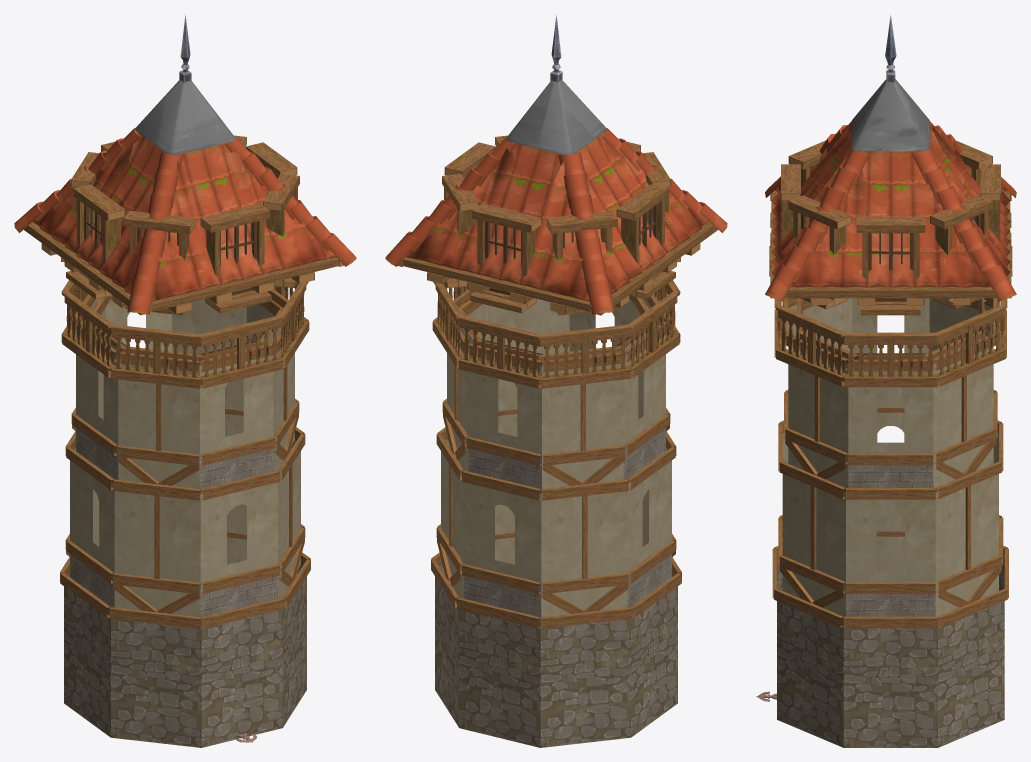
Rendered from Lighthouse.gltf.
3 views of the same model, side by side, from view 1: azimuth 30°, elevation 25°; view 2: azimuth 150°, elevation 25°; view 3: azimuth 270°, elevation 25° (orthographic).
Parts seen in each view (by area): view 1: Roof_Tower_RoundTiles, Wall_UnevenBrick_Straight (×5), Wall_Plaster_Straight (×7), Wall_Plaster_Window_Thin_Round (×6), Balcony_Simple_Straight (×4), Window_Wide_Flat1 (×6); view 2: Roof_Tower_RoundTiles, Wall_UnevenBrick_Straight (×5), Wall_Plaster_Straight (×7), Wall_Plaster_Window_Thin_Round (×6), Balcony_Simple_Straight (×4), Window_Wide_Flat1 (×6); view 3: Wall_Plaster_Straight (×6), Roof_Tower_RoundTiles, Wall_UnevenBrick_Straight (×4), Wall_Plaster_Window_Thin_Round (×4), Window_Wide_Flat1 (×7), Balcony_Simple_Straight (×3).
Boxes of the visible parts, x1,y1,x2,y2 form: Roof_Tower_RoundTiles: (14, 14, 356, 315); Wall_UnevenBrick_Straight (×5): (60, 532, 310, 747); Wall_Plaster_Straight (×7): (71, 294, 305, 617); Wall_Plaster_Window_Thin_Round (×6): (66, 290, 298, 617); Balcony_Simple_Straight (×4): (62, 281, 309, 388); Window_Wide_Flat1 (×6): (61, 142, 299, 315); Roof_Tower_RoundTiles: (385, 14, 727, 315); Wall_UnevenBrick_Straight (×5): (431, 532, 681, 747); Wall_Plaster_Straight (×7): (436, 294, 670, 617); Wall_Plaster_Window_Thin_Round (×6): (443, 290, 675, 617); Balcony_Simple_Straight (×4): (432, 281, 679, 388); Window_Wide_Flat1 (×6): (442, 142, 680, 315); Wall_Plaster_Straight (×6): (779, 298, 1001, 616); Roof_Tower_RoundTiles: (765, 14, 1016, 305); Wall_UnevenBrick_Straight (×4): (774, 531, 1007, 747); Wall_Plaster_Window_Thin_Round (×4): (846, 298, 935, 616); Window_Wide_Flat1 (×7): (769, 140, 1012, 315); Balcony_Simple_Straight (×3): (775, 305, 1005, 387).
Bounding box in the file's own units: 5.65 × 16.3 × 5.62.
Materials: 9 (8 with a texture image).
